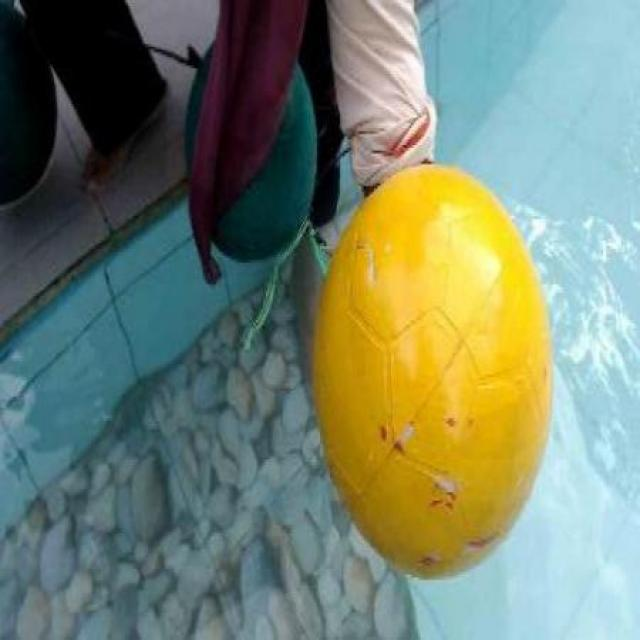buoy: (312, 161, 553, 577)
